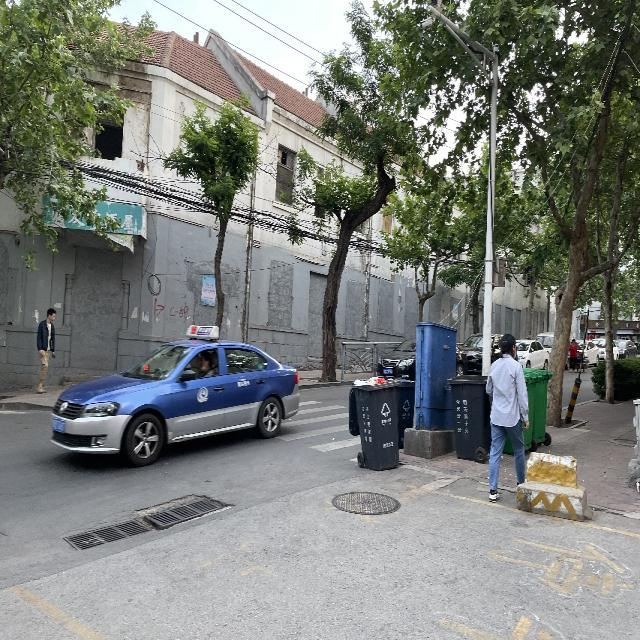garbage_bin: (503, 367, 552, 450), (447, 373, 490, 460), (394, 377, 415, 447)
overflow: (348, 376, 400, 470)
